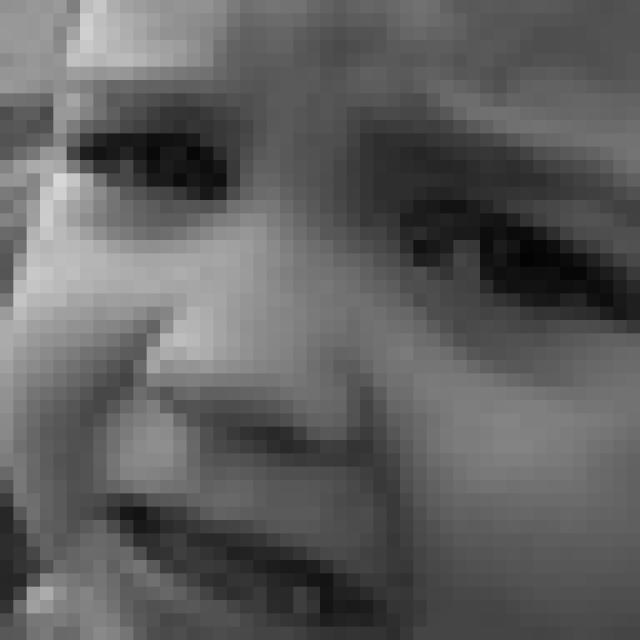disgust: (53, 66, 640, 640)
